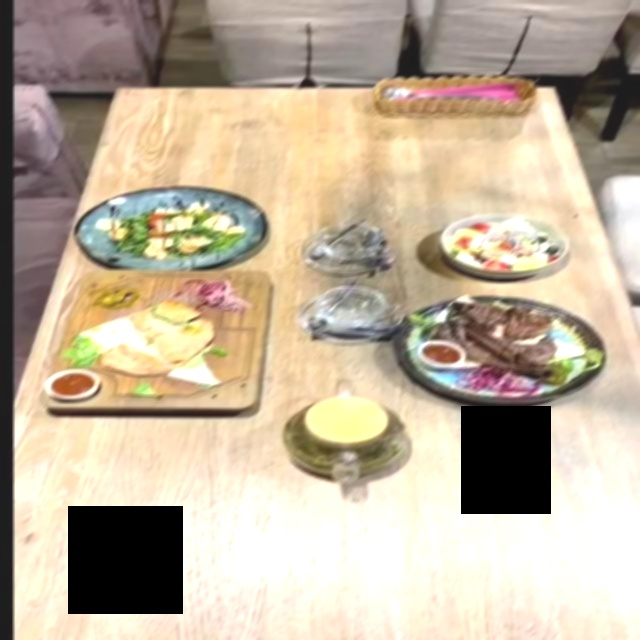meat: (46, 272, 272, 412), (390, 292, 606, 402)
salad: (71, 185, 263, 267), (436, 211, 570, 276)
tea: (272, 370, 424, 499)
